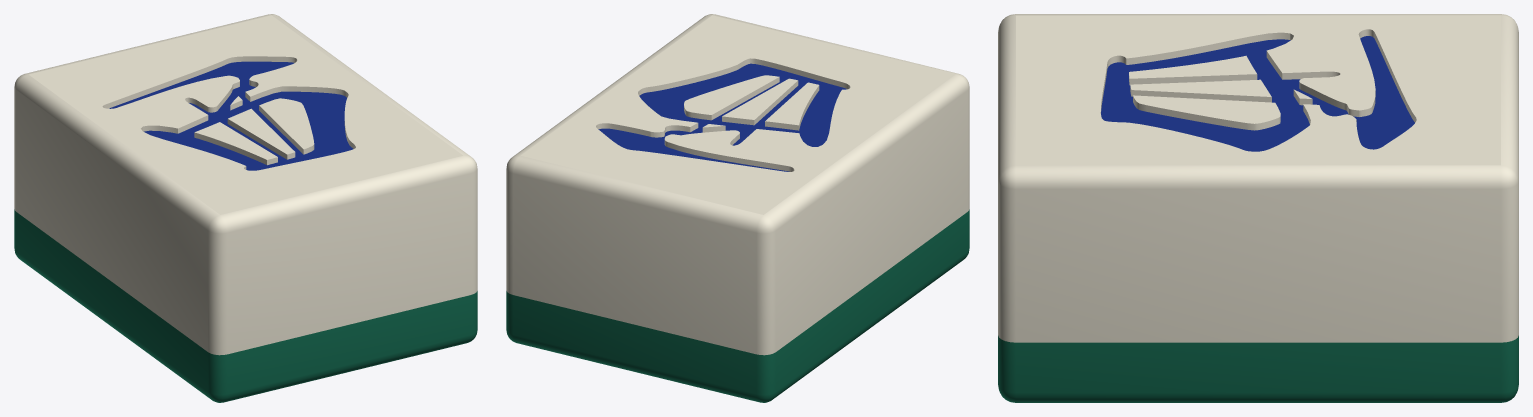
Rendered from Shaa.glb.
3 renders of one model, left to right at view 1: azimuth 30°, elevation 25°; view 2: azimuth 150°, elevation 25°; view 3: azimuth 270°, elevation 25°, orthographic. The views are drawn at different scales.
Visible parts, largest first — view 1: Shaa_body, Shaa_inset; view 2: Shaa_body, Shaa_inset; view 3: Shaa_body, Shaa_inset.
Boxes of the visible parts, x1,y1,x2,y2 form: Shaa_body: [14, 14, 477, 402]; Shaa_inset: [109, 61, 353, 170]; Shaa_body: [506, 14, 969, 402]; Shaa_inset: [598, 63, 846, 171]; Shaa_body: [998, 14, 1518, 402]; Shaa_inset: [1101, 36, 1414, 151].
Bounding box in the file's own units: 0.024 × 0.016 × 0.032.
